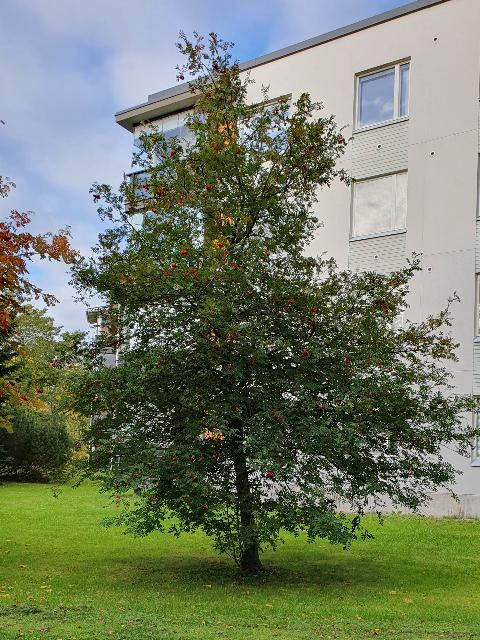rowan: (32, 22, 480, 584)
